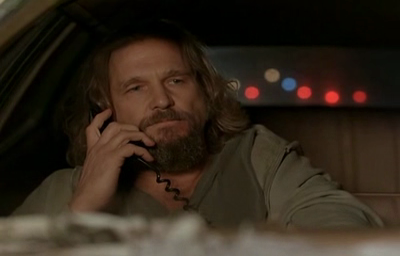cu: (1, 1, 400, 256)
face: (110, 48, 204, 171)
person: (8, 15, 392, 227)
